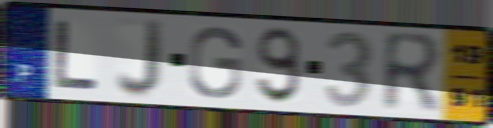3: (323, 29, 378, 110)
9: (254, 24, 303, 107)
G: (186, 24, 245, 100)
J: (113, 16, 167, 101)
L: (52, 17, 103, 92)
R: (381, 29, 447, 116)
